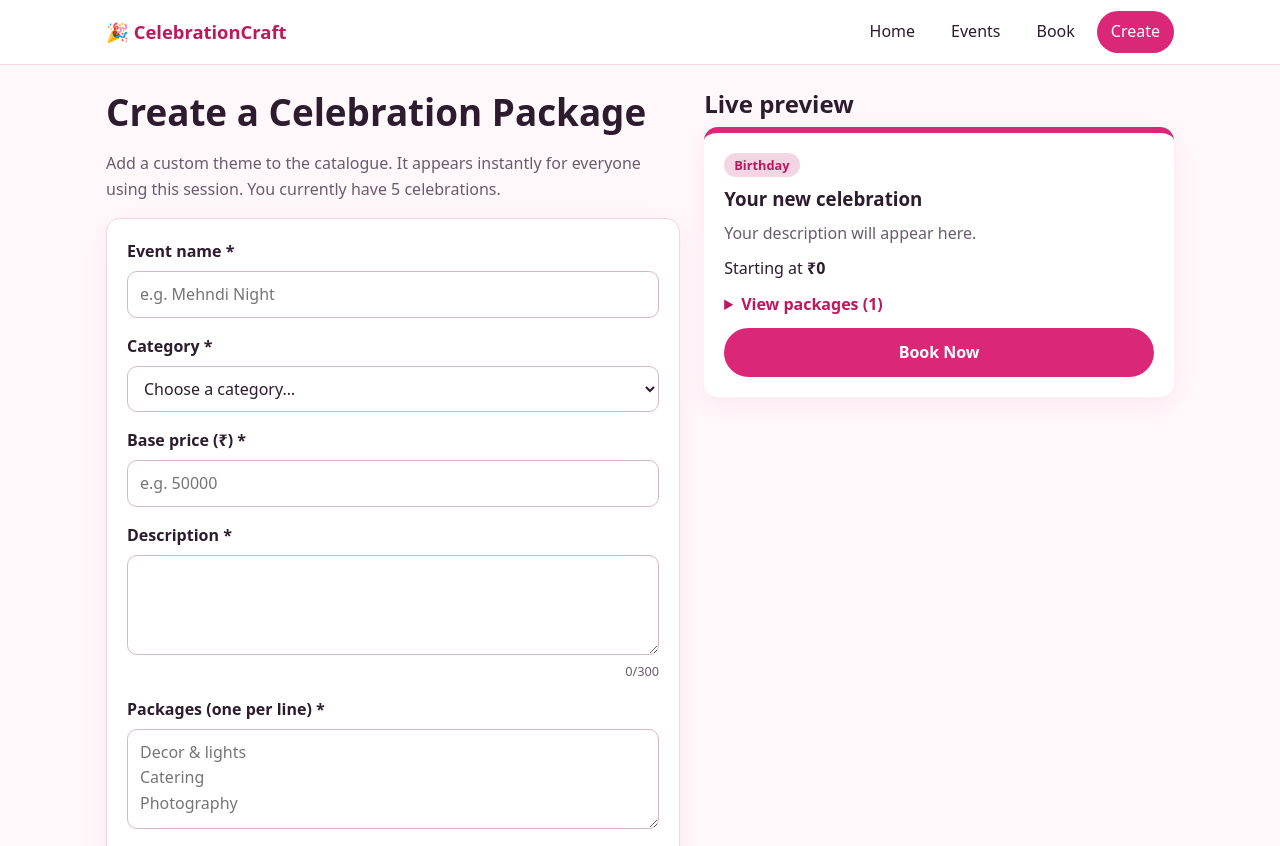
Scenario: Create celebration form › rejects a duplicate name regardless of letter case
The image size is (1280, 846).
Type "classic birthday party" into the field labelled "Event name *" at (393, 295), box top-left (127, 271), bottom-right (659, 318)
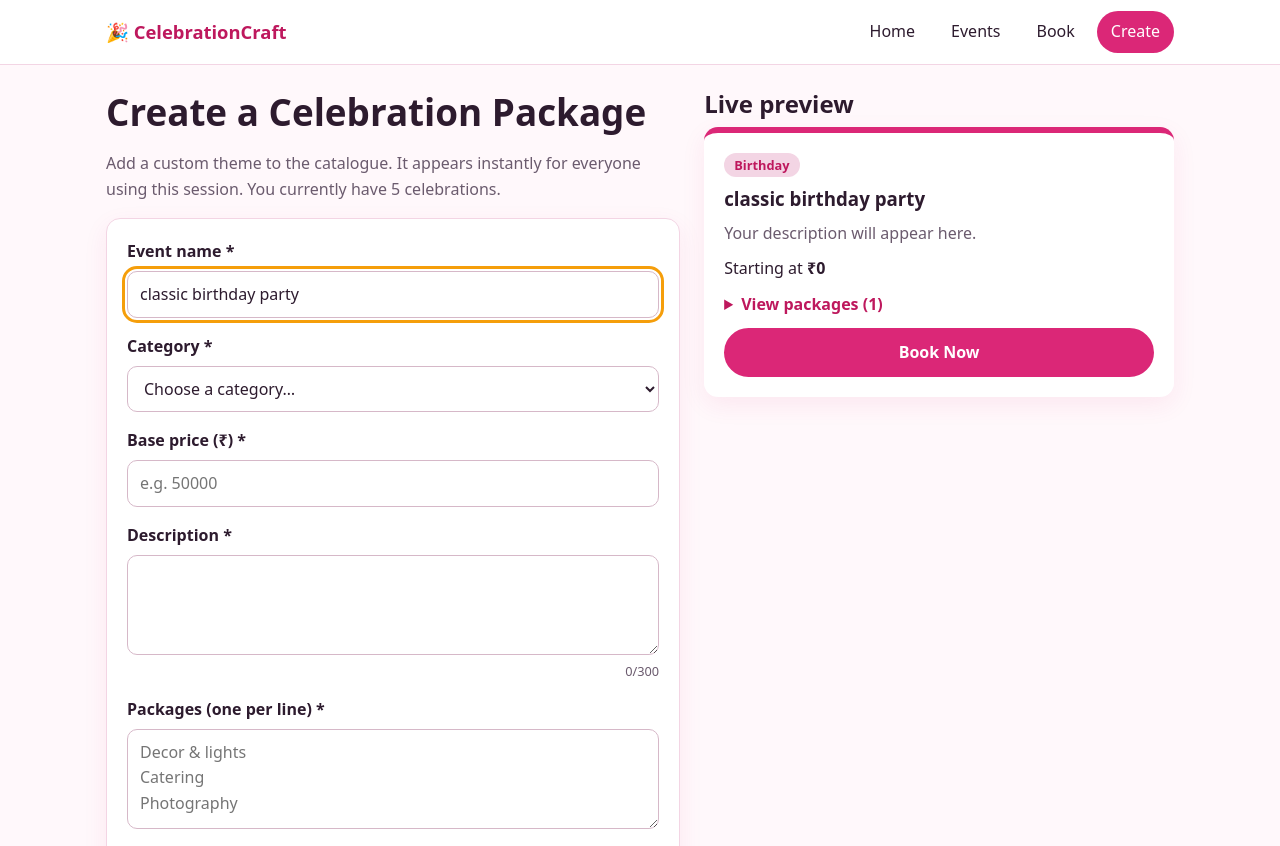
Select "Birthday" in the dropdown labelled "Category *" at (393, 389), box top-left (127, 366), bottom-right (659, 412)
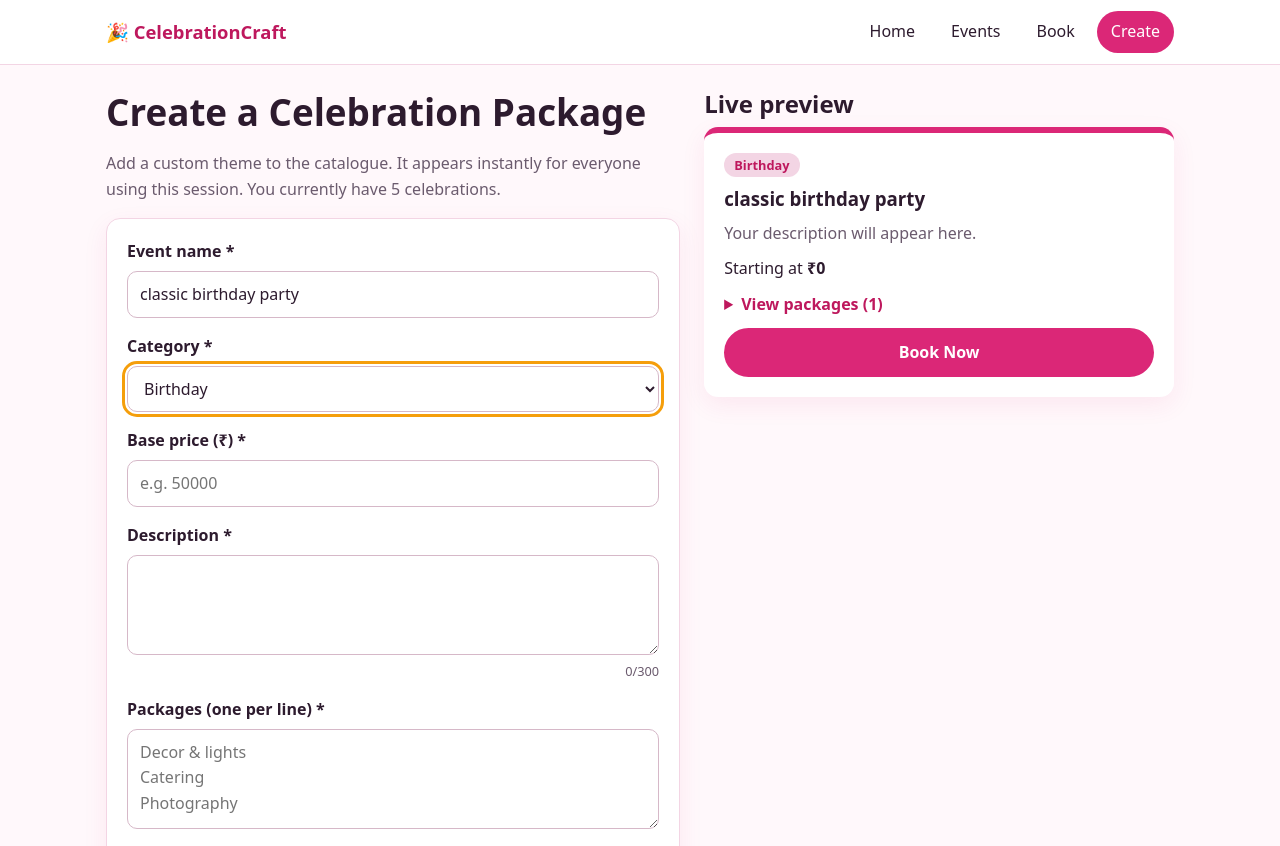
Type "50000" into the number field labelled "Base price (₹) *" at (393, 483), box top-left (127, 460), bottom-right (659, 507)
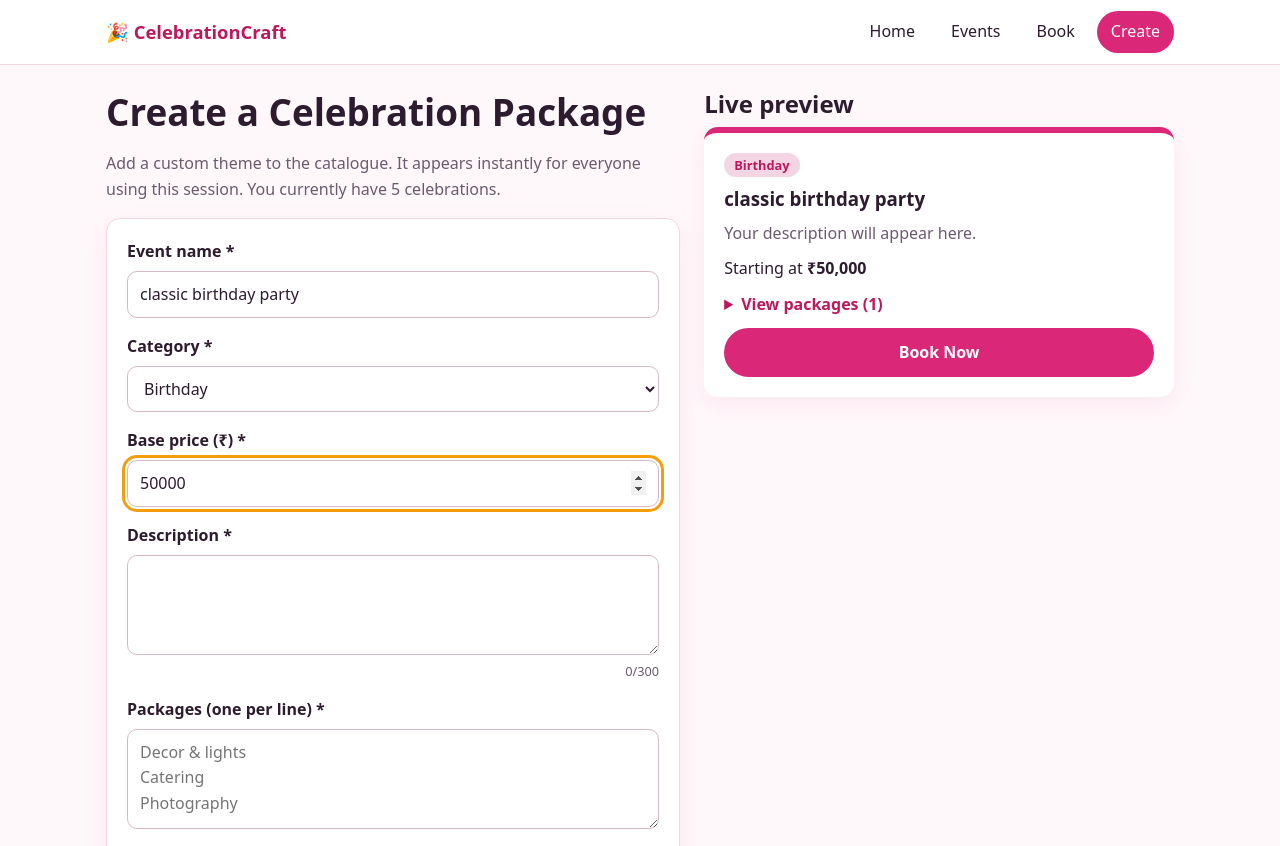
Type "A colourful mehndi evening with music." into the text box labelled "Description *" at (393, 605), box top-left (127, 555), bottom-right (659, 655)
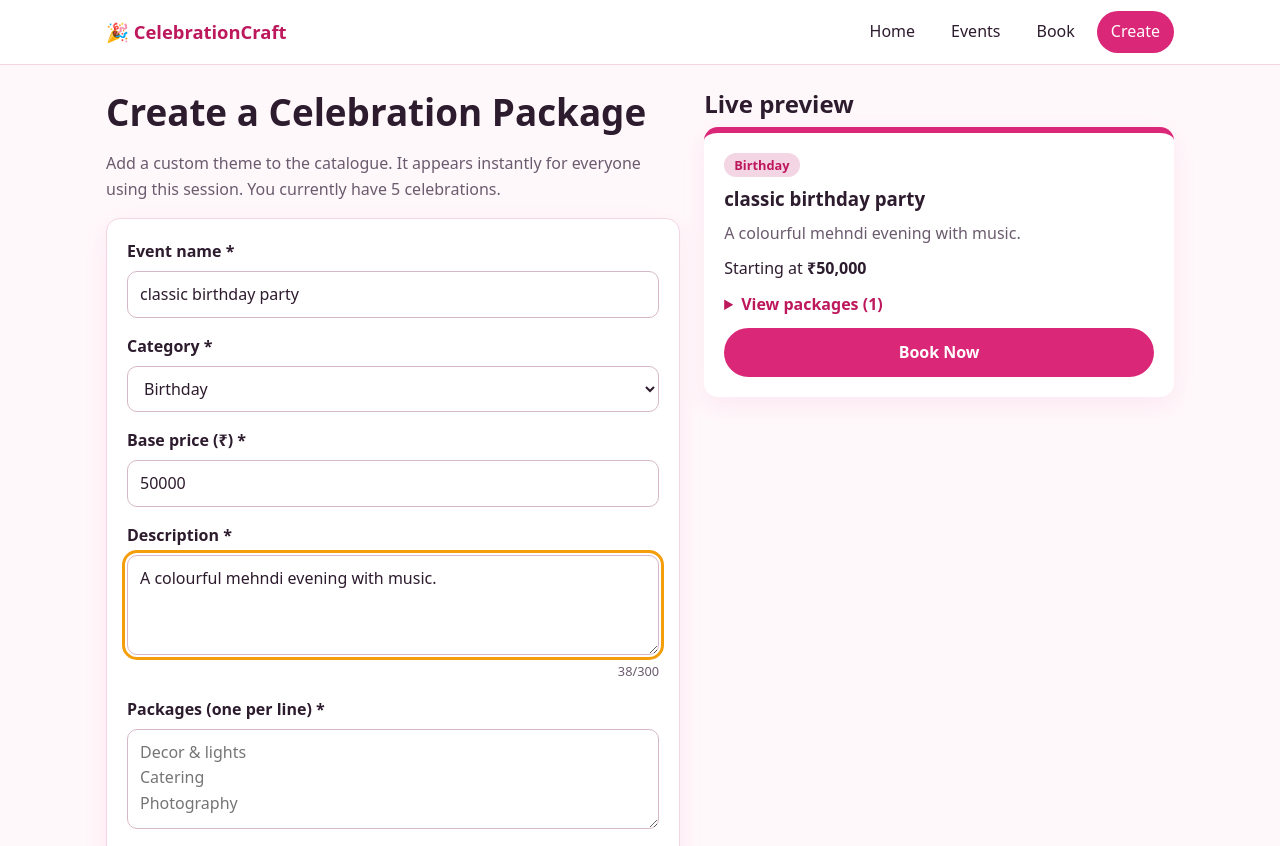
Type "Decor & lights" into the text box labelled "Packages (one per line) *" at (393, 779), box top-left (127, 729), bottom-right (659, 829)
(page scrolled)
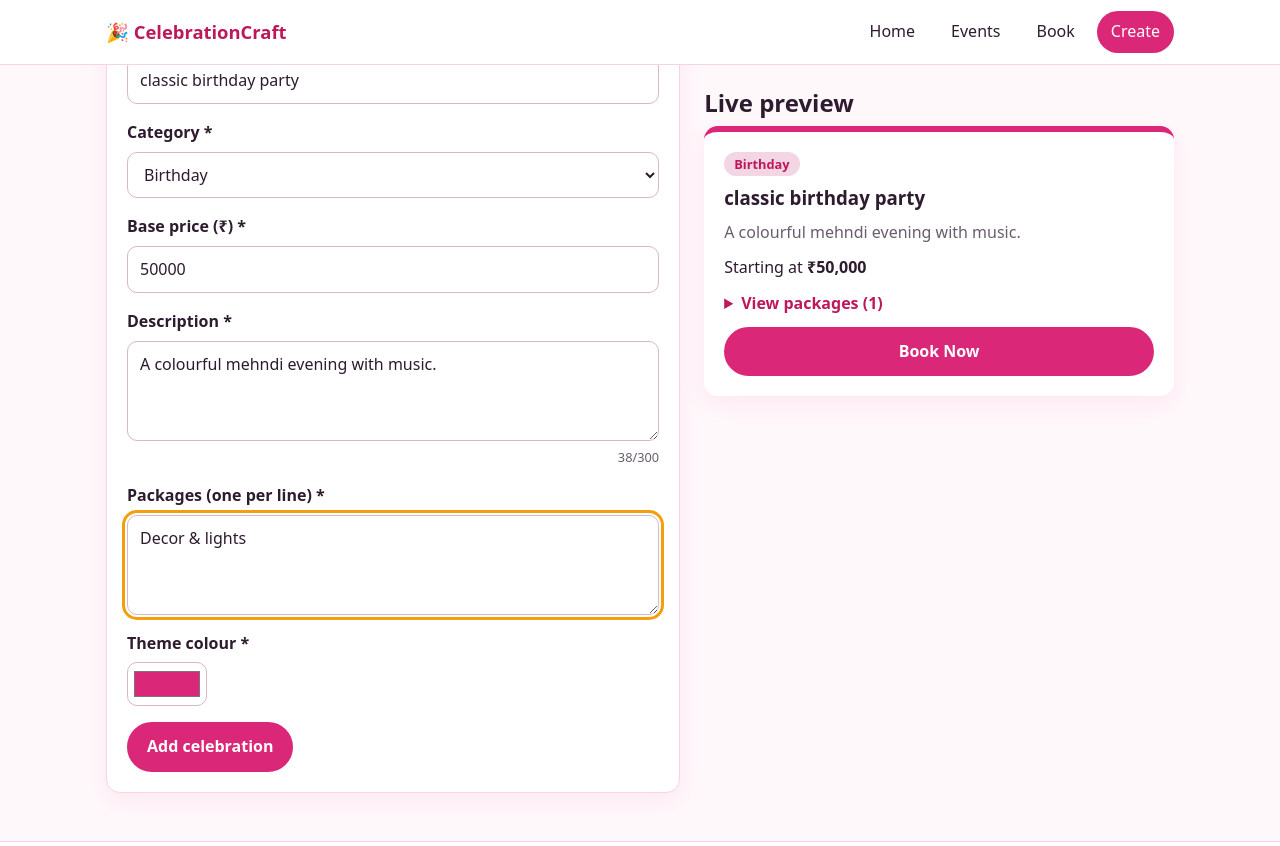
Click the button "Add celebration" at (210, 747), box top-left (127, 722), bottom-right (294, 772)
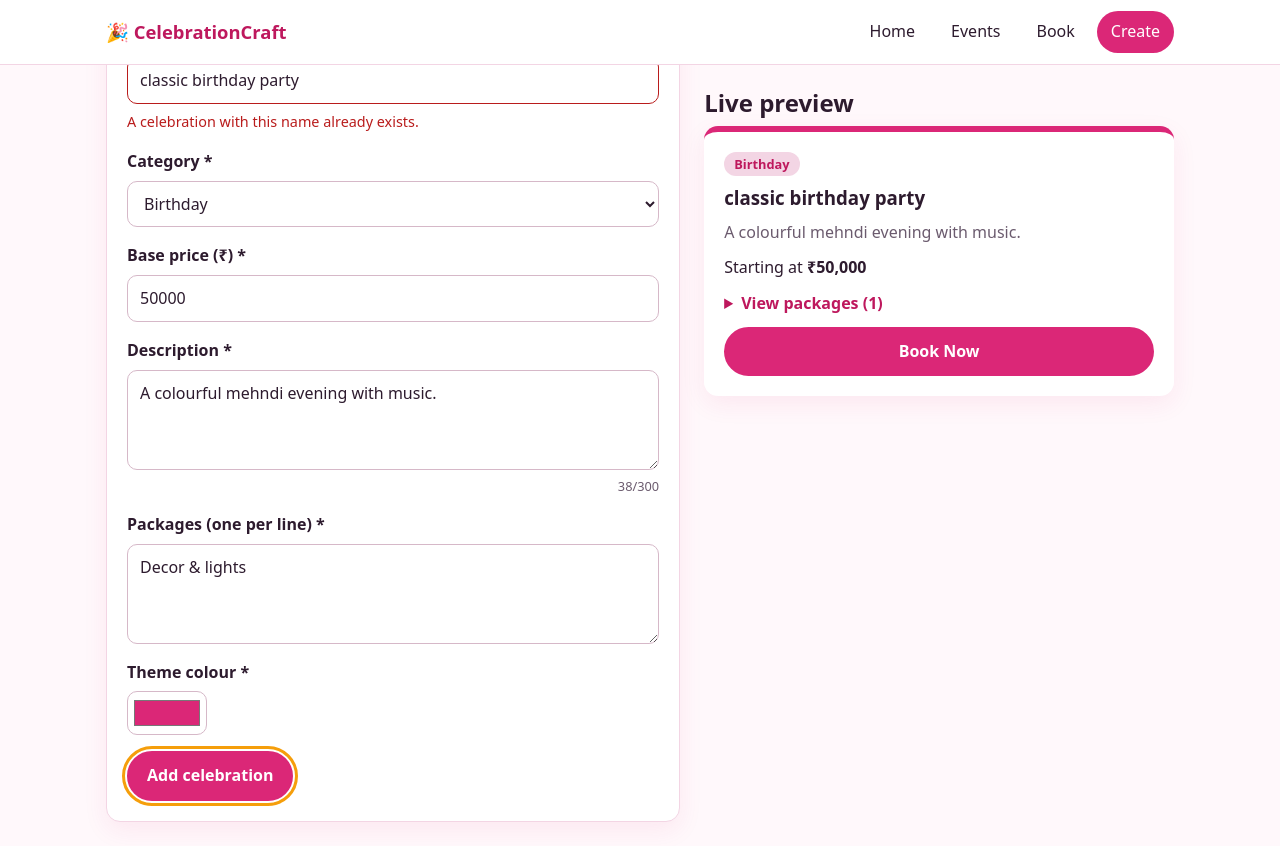
Expected: the text "A celebration with this name already exists." is shown, top-left (127, 112), bottom-right (419, 131)
